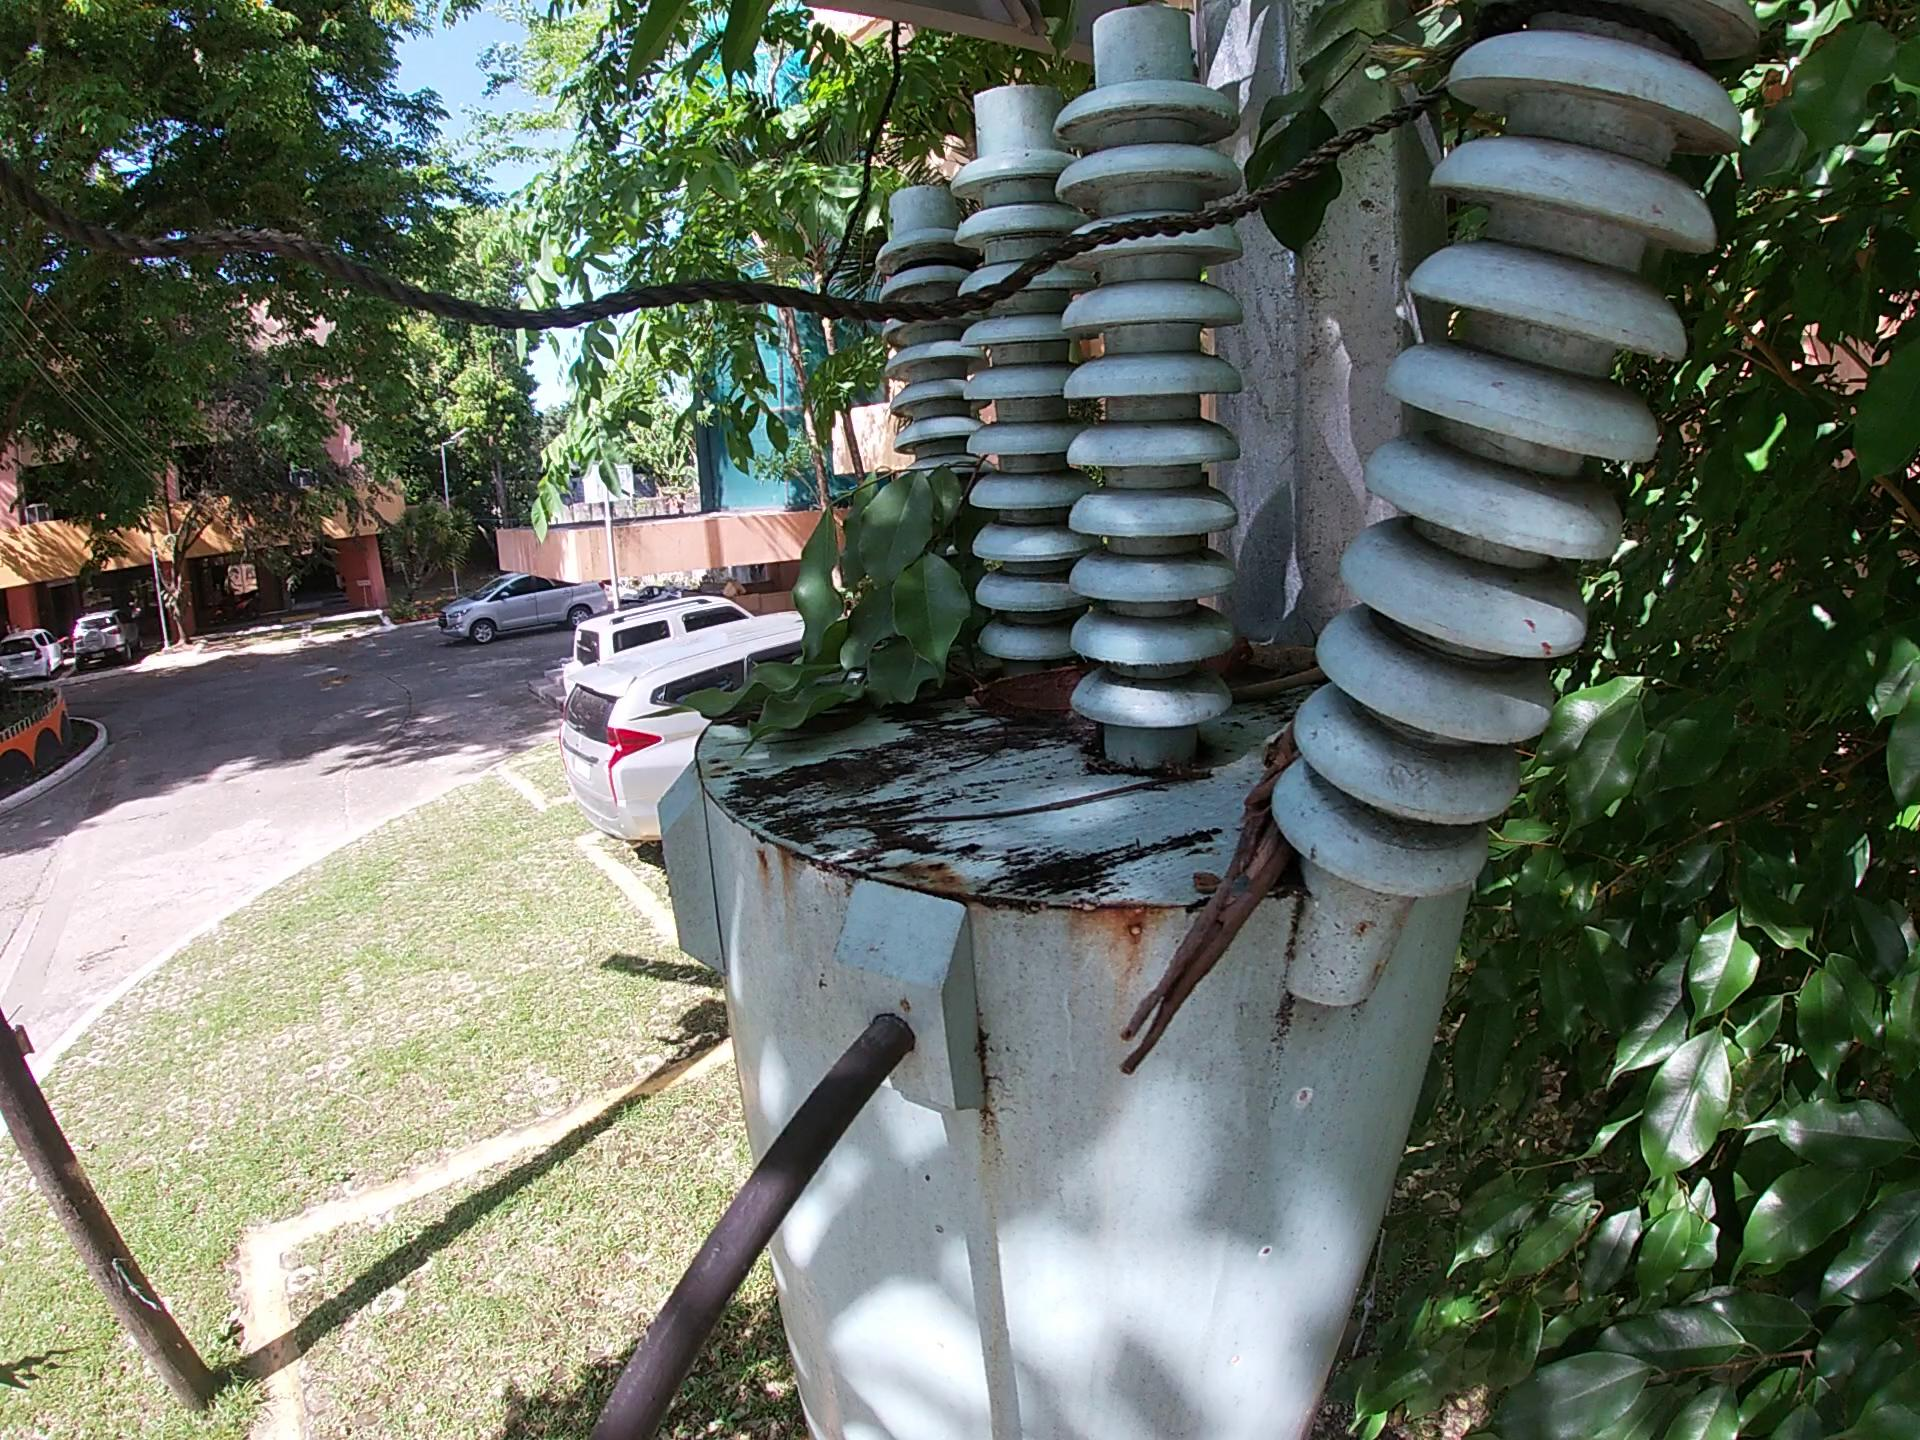branch with leaves: (667, 436, 984, 746)
mahogany fruit: (965, 663, 1093, 722)
tree branch: (1095, 746, 1346, 1094), (866, 765, 1222, 839), (900, 722, 996, 800), (1209, 672, 1335, 714), (1217, 641, 1327, 675)
